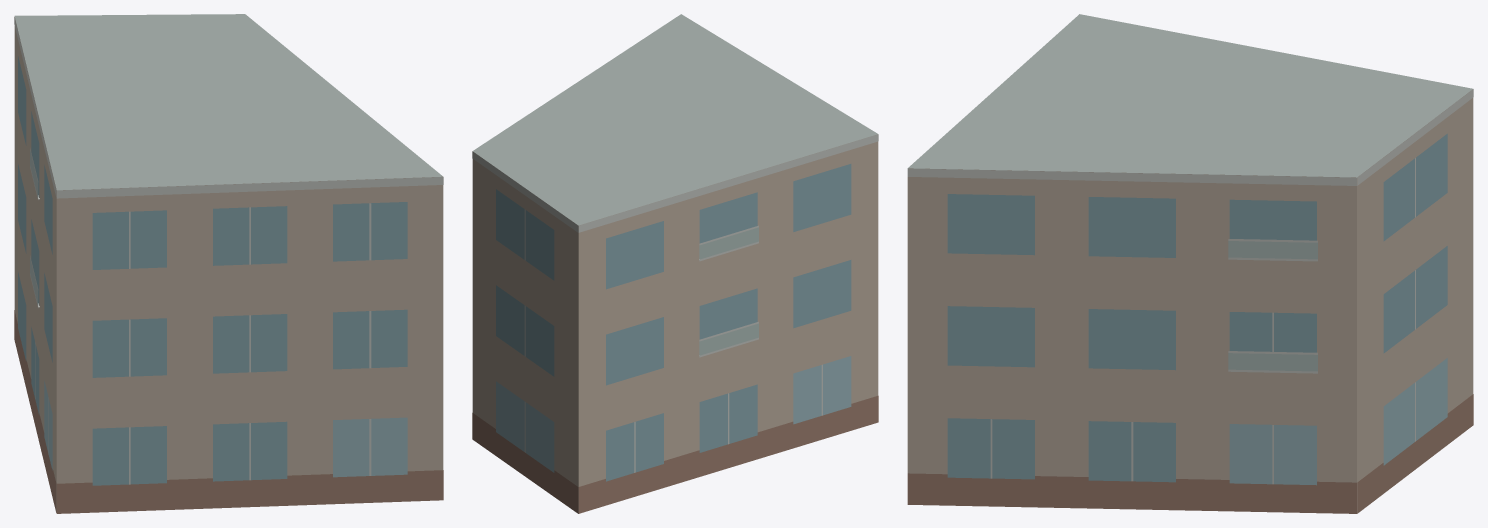
The model's file is survey-upis-32503411.glb.
3 renders of one model, left to right at view 1: azimuth 30°, elevation 25°; view 2: azimuth 150°, elevation 25°; view 3: azimuth 270°, elevation 25°, orthographic. The views are drawn at different scales.
Parts seen in each view (by area): view 1: survey-upis-32503411.tmp; view 2: survey-upis-32503411.tmp; view 3: survey-upis-32503411.tmp.
Part boxes in pixels (x1,y1,x2,y2): survey-upis-32503411.tmp: (14, 14, 443, 513); survey-upis-32503411.tmp: (472, 14, 878, 513); survey-upis-32503411.tmp: (907, 14, 1473, 513).
Size of the model in its own units: 10.01 by 9.6 by 14.65.
